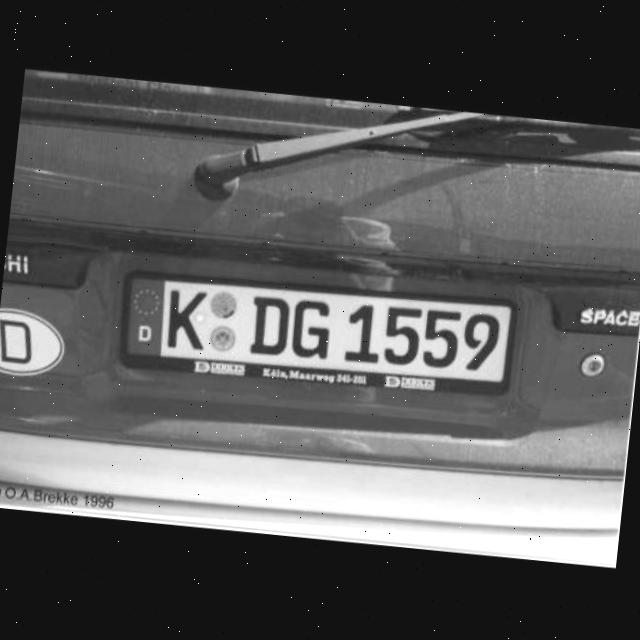license-plates: (121, 274, 514, 393)
